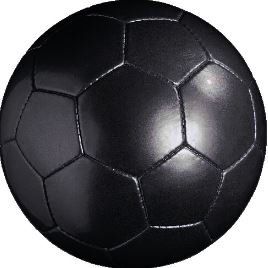Dead: (4, 5, 265, 268)
